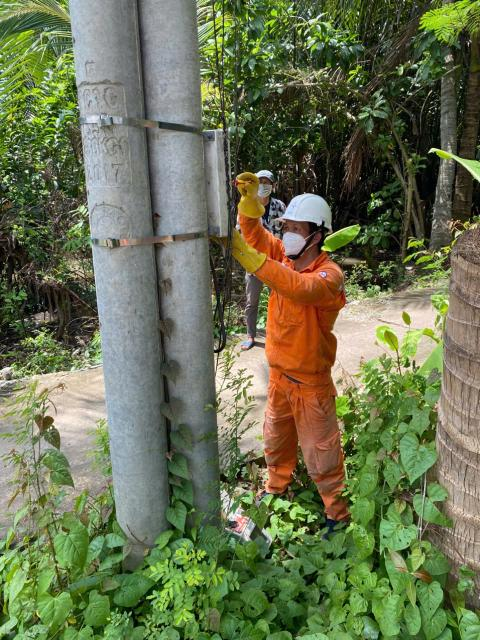gloves: (208, 214, 274, 275), (235, 168, 266, 225)
helmet: (283, 188, 342, 238)
